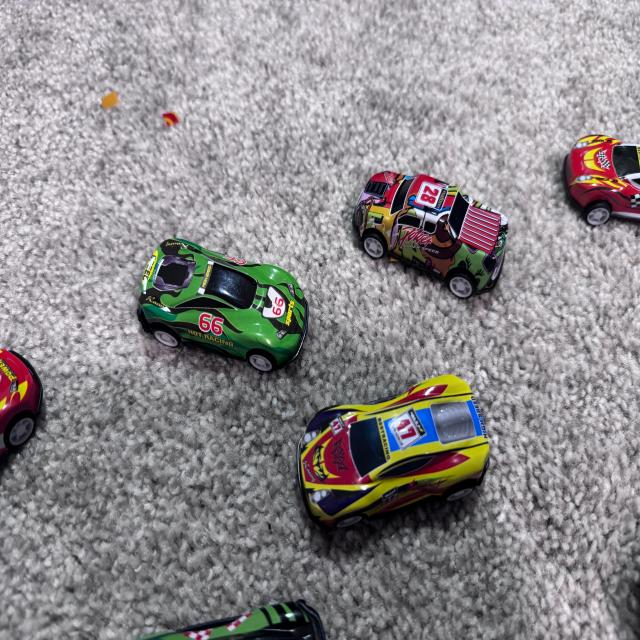Car: (118, 170, 330, 405), (279, 352, 523, 540), (329, 135, 513, 306), (537, 106, 640, 290)
